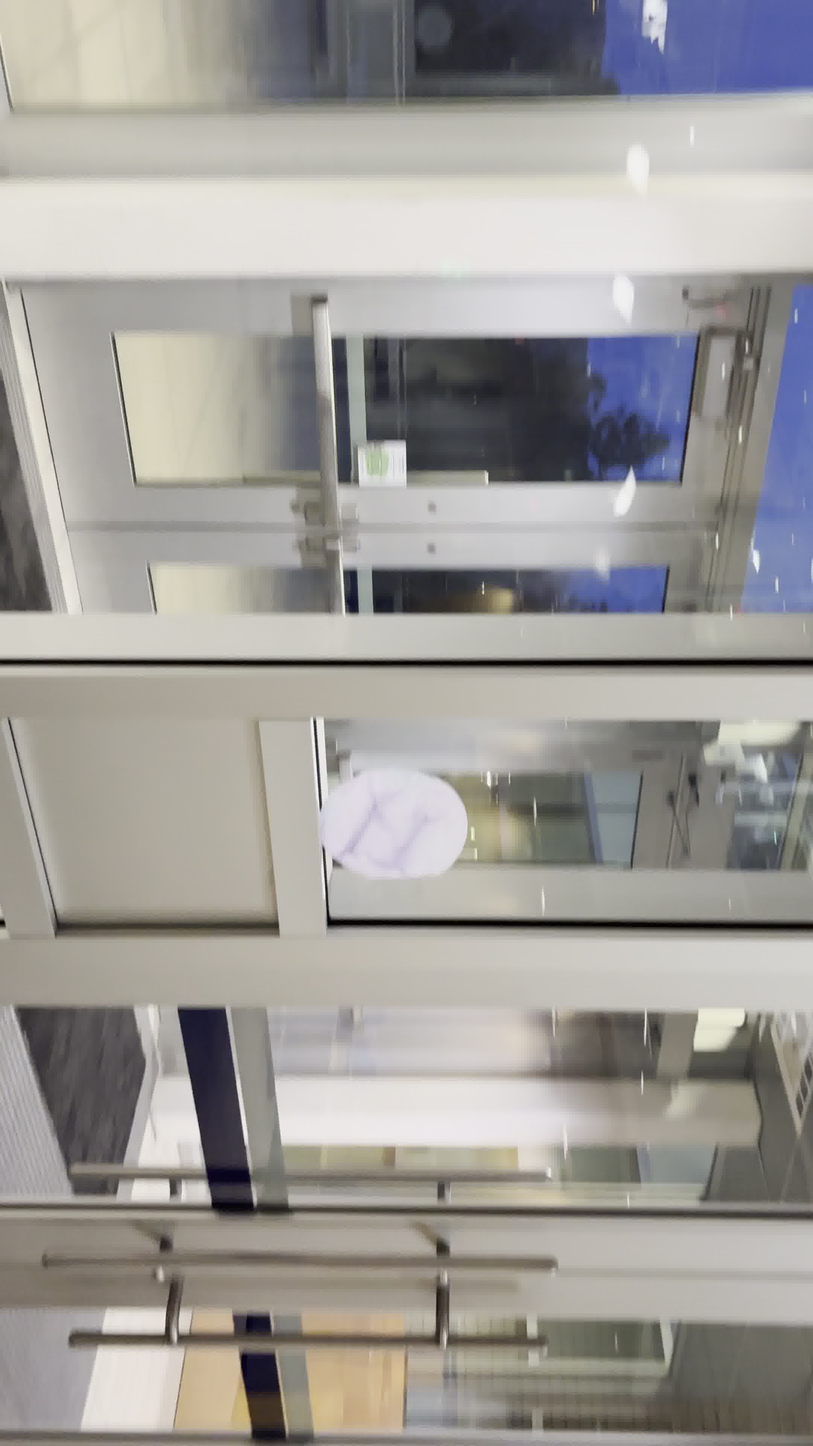Target: (317, 766, 469, 880)
